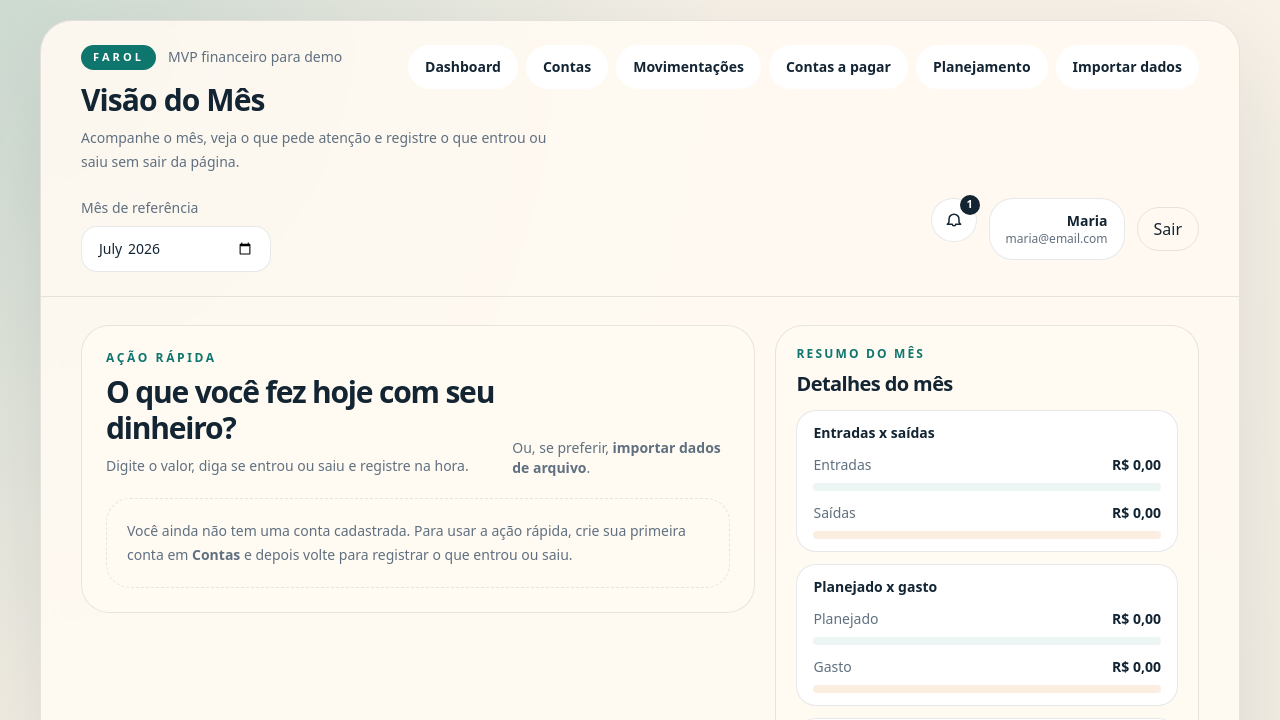
it: DashboardPage › Dashboard_WhenMonthHealthIsUnavailable_UsesAlertActionAsNotificationFallback
The image size is (1280, 720).
Click the button named "Abrir focos do mes (1)" at coordinates (954, 220), box [931, 198, 977, 242]
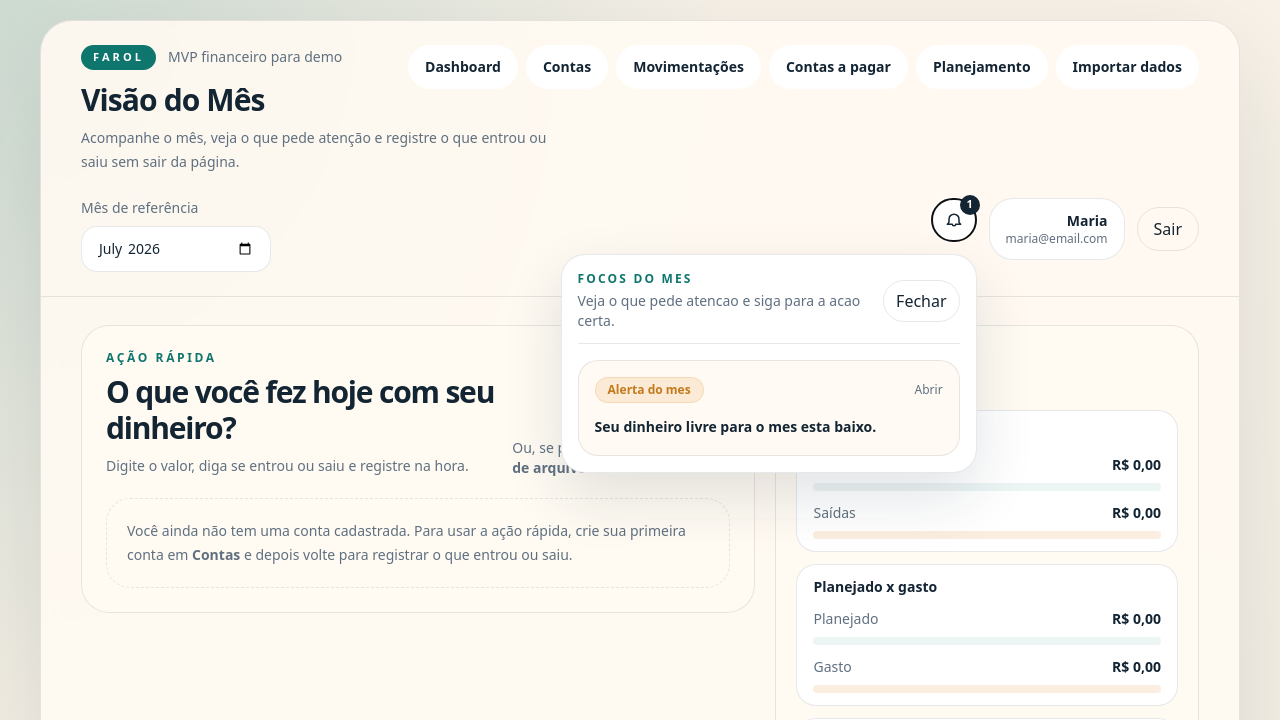
Now the dialog "Focos do mes" is shown, box [561, 254, 977, 472]
